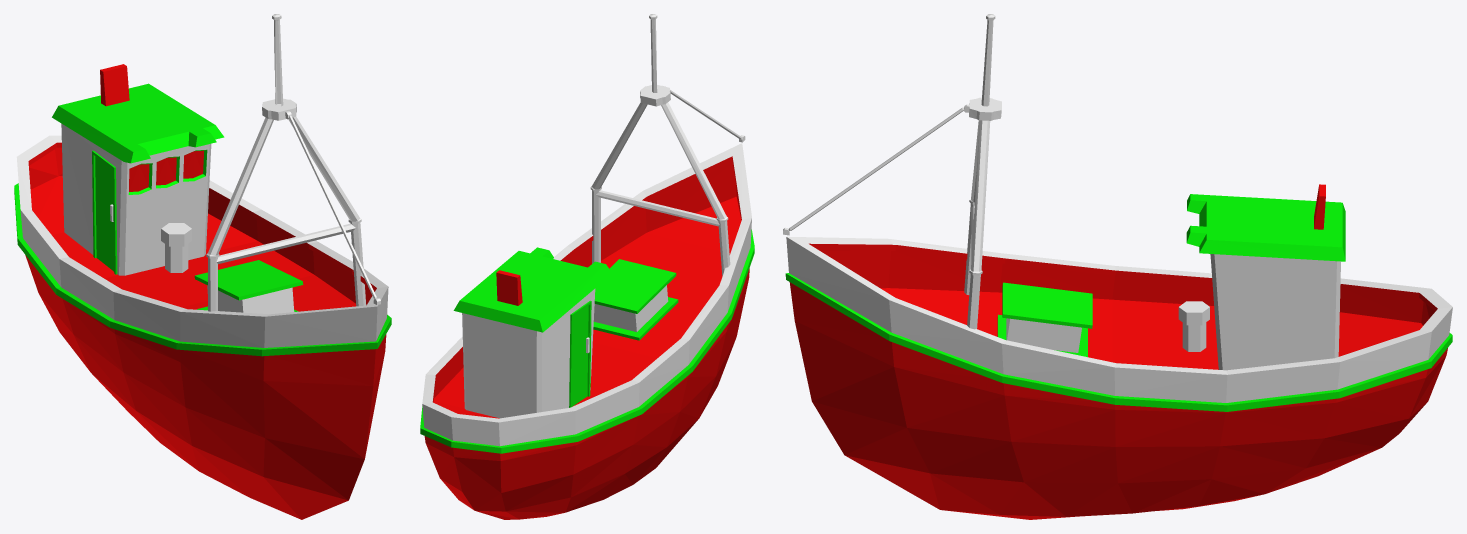
File: Son.fbx
3 views of the same model, side by side, from view 1: azimuth 30°, elevation 25°; view 2: azimuth 150°, elevation 25°; view 3: azimuth 270°, elevation 25° (orthographic). The views are drawn at different scales.
Visible parts, largest first — view 1: skp1284_1; view 2: skp1284_1; view 3: skp1284_1.
Part boxes in pixels (x1=…): skp1284_1: x1=14, y1=14, x2=391, y2=519; skp1284_1: x1=420, y1=14, x2=754, y2=519; skp1284_1: x1=783, y1=14, x2=1452, y2=519.
Bounding box in the file's own units: 4.47 × 10.03 × 12.06.
